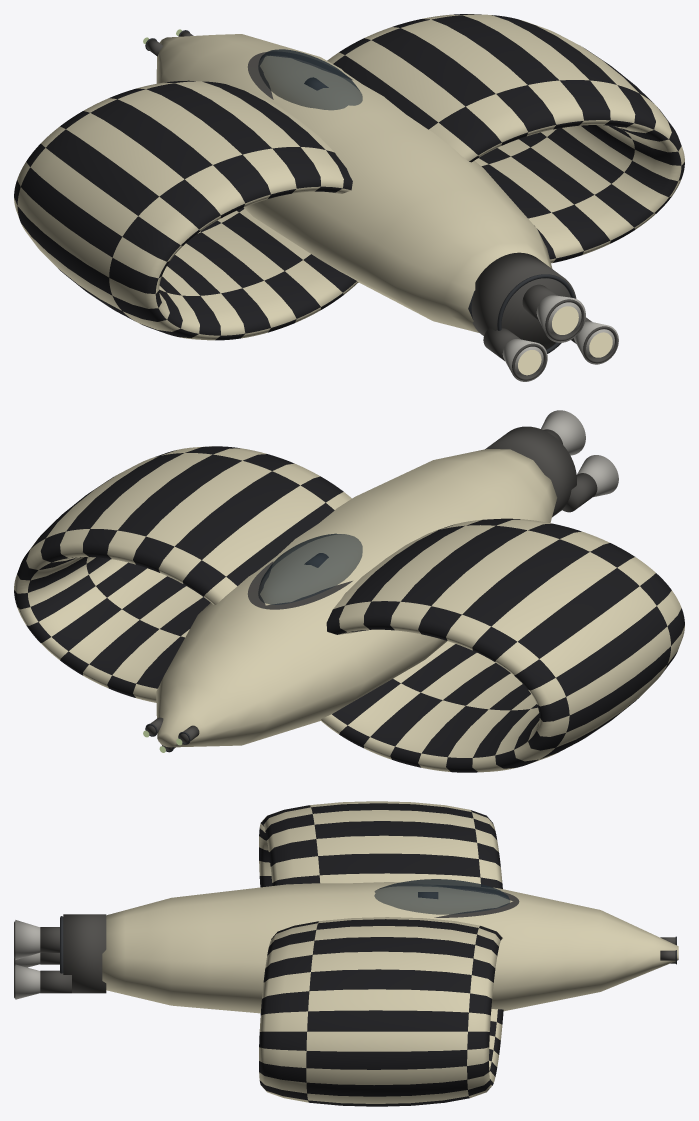
The model's file is Ship_TwoHoop_428113.glb.
3 renders of one model, top to bottom at view 1: azimuth 30°, elevation 25°; view 2: azimuth 150°, elevation 25°; view 3: azimuth 270°, elevation 25°, orthographic. The views are drawn at different scales.
Parts seen in each view (by area): view 1: Hoop_Left_StructuralRing_YAxisHole_CenterTangent_AftSwept, Hoop_Right_StructuralRing_YAxisHole_CenterTangent_AftSwept, Fuselage_MainCenteredHull_CenterOfMassAtOrigin, EngineBlock_AftHullIntegratedMountPlate, CanopyGlass_LowForwardPodDome, EngineEmitter, CanopyFrame_LowInsetOvalRim, EngineBell_CenterUpper_AftHullBurnishedNozzle, EngineBell_LeftLower_AftHullBurnishedNozzle, EngineBell_RightLower_AftHullBurnishedNozzle, EngineBlock_AftHullDarkTrimRing, EngineThroat_LeftLower_AftHullDarkSocket (+1 smaller); view 2: Hoop_Left_StructuralRing_YAxisHole_CenterTangent_AftSwept, Hoop_Right_StructuralRing_YAxisHole_CenterTangent_AftSwept, Fuselage_MainCenteredHull_CenterOfMassAtOrigin, CanopyGlass_LowForwardPodDome, EngineBlock_AftHullIntegratedMountPlate, EngineBell_CenterUpper_AftHullBurnishedNozzle, CanopyFrame_LowInsetOvalRim, EngineBell_LeftLower_AftHullBurnishedNozzle, EngineThroat_LeftLower_AftHullDarkSocket; view 3: Hoop_Right_StructuralRing_YAxisHole_CenterTangent_AftSwept, Fuselage_MainCenteredHull_CenterOfMassAtOrigin, Hoop_Left_StructuralRing_YAxisHole_CenterTangent_AftSwept, CanopyGlass_LowForwardPodDome, EngineBlock_AftHullIntegratedMountPlate, EngineBell_CenterUpper_AftHullBurnishedNozzle, EngineBell_RightLower_AftHullBurnishedNozzle, CanopyFrame_LowInsetOvalRim, EngineThroat_RightLower_AftHullDarkSocket, EngineThroat_CenterUpper_AftHullDarkSocket.
Boxes of the visible parts, left/top/right/bottom form: Hoop_Left_StructuralRing_YAxisHole_CenterTangent_AftSwept: left=14, top=80, right=358, bottom=340; Hoop_Right_StructuralRing_YAxisHole_CenterTangent_AftSwept: left=327, top=14, right=684, bottom=263; Fuselage_MainCenteredHull_CenterOfMassAtOrigin: left=156, top=34, right=552, bottom=332; EngineBlock_AftHullIntegratedMountPlate: left=471, top=252, right=576, bottom=353; CanopyGlass_LowForwardPodDome: left=258, top=49, right=362, bottom=110; EngineEmitter: left=518, top=306, right=612, bottom=375; CanopyFrame_LowInsetOvalRim: left=247, top=52, right=352, bottom=99; EngineBell_CenterUpper_AftHullBurnishedNozzle: left=536, top=295, right=585, bottom=342; EngineBell_LeftLower_AftHullBurnishedNozzle: left=502, top=339, right=547, bottom=381; EngineBell_RightLower_AftHullBurnishedNozzle: left=574, top=321, right=618, bottom=364; EngineBlock_AftHullDarkTrimRing: left=497, top=274, right=575, bottom=353; EngineThroat_LeftLower_AftHullDarkSocket: left=483, top=327, right=520, bottom=360; Hoop_Left_StructuralRing_YAxisHole_CenterTangent_AftSwept: left=320, top=518, right=684, bottom=772; Hoop_Right_StructuralRing_YAxisHole_CenterTangent_AftSwept: left=14, top=446, right=351, bottom=702; Fuselage_MainCenteredHull_CenterOfMassAtOrigin: left=156, top=449, right=557, bottom=747; CanopyGlass_LowForwardPodDome: left=258, top=533, right=362, bottom=604; EngineBlock_AftHullIntegratedMountPlate: left=485, top=426, right=576, bottom=517; EngineBell_CenterUpper_AftHullBurnishedNozzle: left=541, top=410, right=585, bottom=455; CanopyFrame_LowInsetOvalRim: left=247, top=561, right=352, bottom=609; EngineBell_LeftLower_AftHullBurnishedNozzle: left=577, top=455, right=618, bottom=497; EngineThroat_LeftLower_AftHullDarkSocket: left=562, top=473, right=597, bottom=512; Hoop_Right_StructuralRing_YAxisHole_CenterTangent_AftSwept: left=259, top=917, right=503, bottom=1106; Fuselage_MainCenteredHull_CenterOfMassAtOrigin: left=102, top=882, right=678, bottom=1013; Hoop_Left_StructuralRing_YAxisHole_CenterTangent_AftSwept: left=259, top=801, right=502, bottom=888; CanopyGlass_LowForwardPodDome: left=374, top=879, right=510, bottom=914; EngineBlock_AftHullIntegratedMountPlate: left=63, top=914, right=106, bottom=993; EngineBell_CenterUpper_AftHullBurnishedNozzle: left=15, top=920, right=40, bottom=959; EngineBell_RightLower_AftHullBurnishedNozzle: left=15, top=964, right=40, bottom=999; CanopyFrame_LowInsetOvalRim: left=434, top=886, right=519, bottom=917; EngineThroat_RightLower_AftHullDarkSocket: left=40, top=970, right=71, bottom=993; EngineThroat_CenterUpper_AftHullDarkSocket: left=40, top=927, right=59, bottom=952.
Size of the model in its own units: 4.57 by 1.38 by 5.59.
